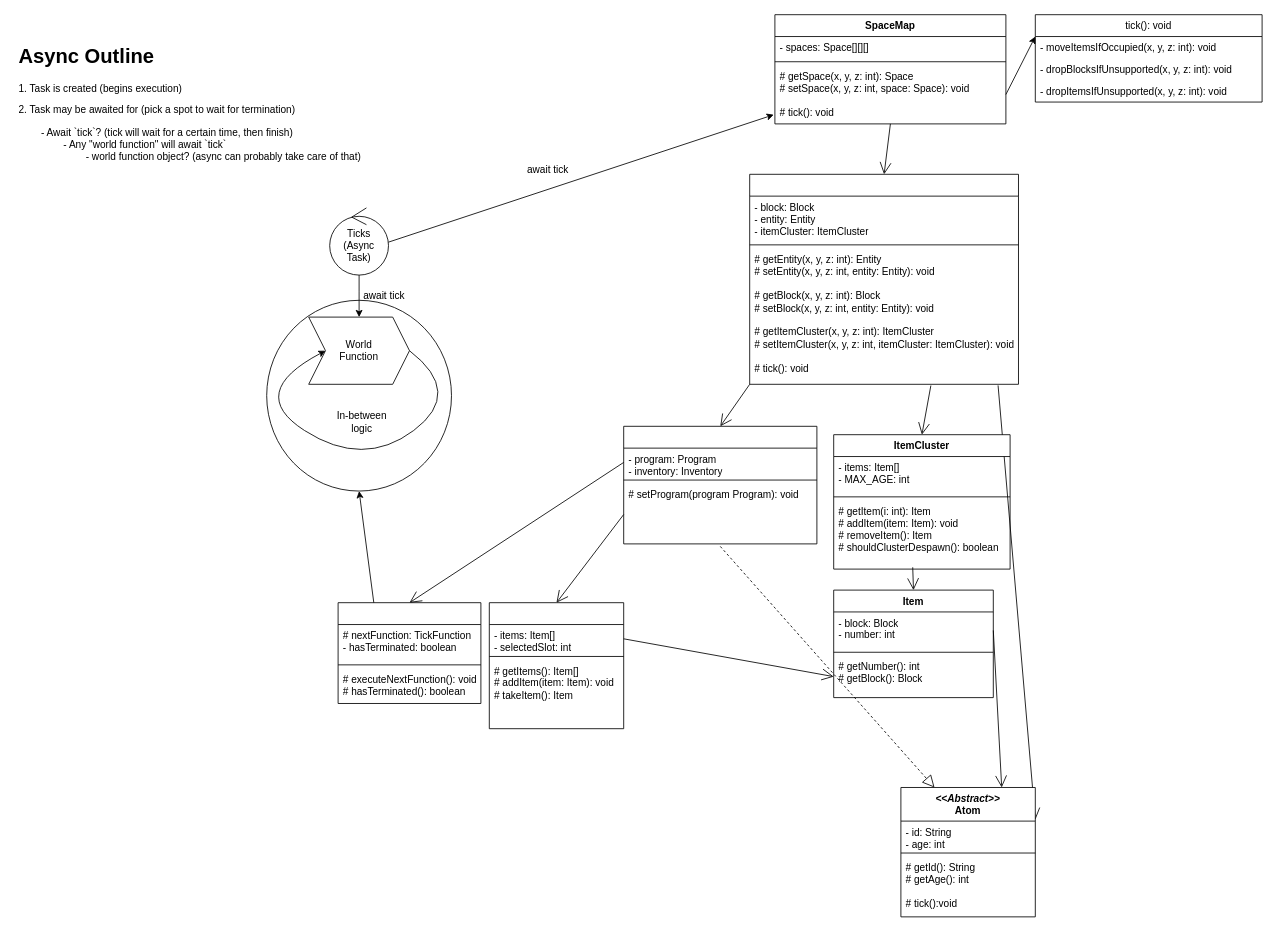
Some shapes in this 1277 by 934 pixel diagram are drawn without their labels. The box of each missing label's shape, as (x1, y1, x2, y2) in pixels:
Entity: (623, 425, 817, 544)
Inventory: (488, 602, 624, 729)
Program: (337, 602, 481, 704)
Space: (749, 173, 1018, 384)
